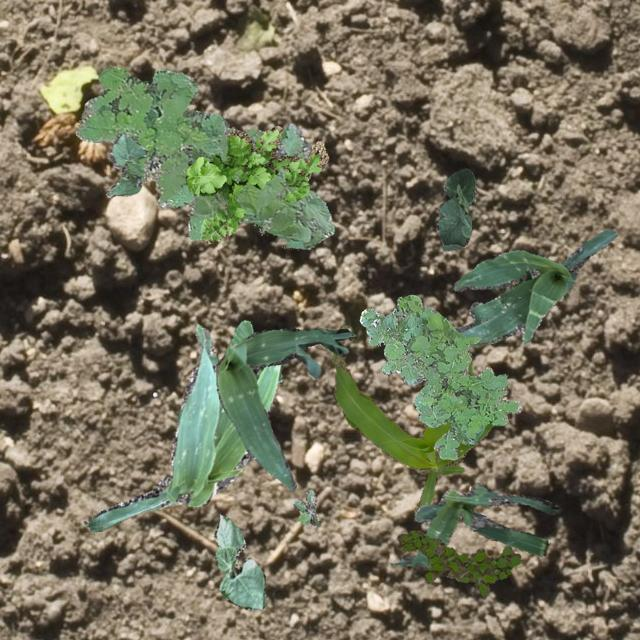crop: (84, 318, 282, 530), (332, 324, 492, 512), (215, 328, 352, 490), (452, 228, 616, 344), (393, 482, 558, 566), (213, 514, 264, 610), (434, 168, 476, 250), (105, 132, 146, 196)
weed: (75, 68, 332, 248), (358, 294, 520, 458), (185, 125, 328, 242), (394, 530, 520, 596), (292, 488, 318, 526)
